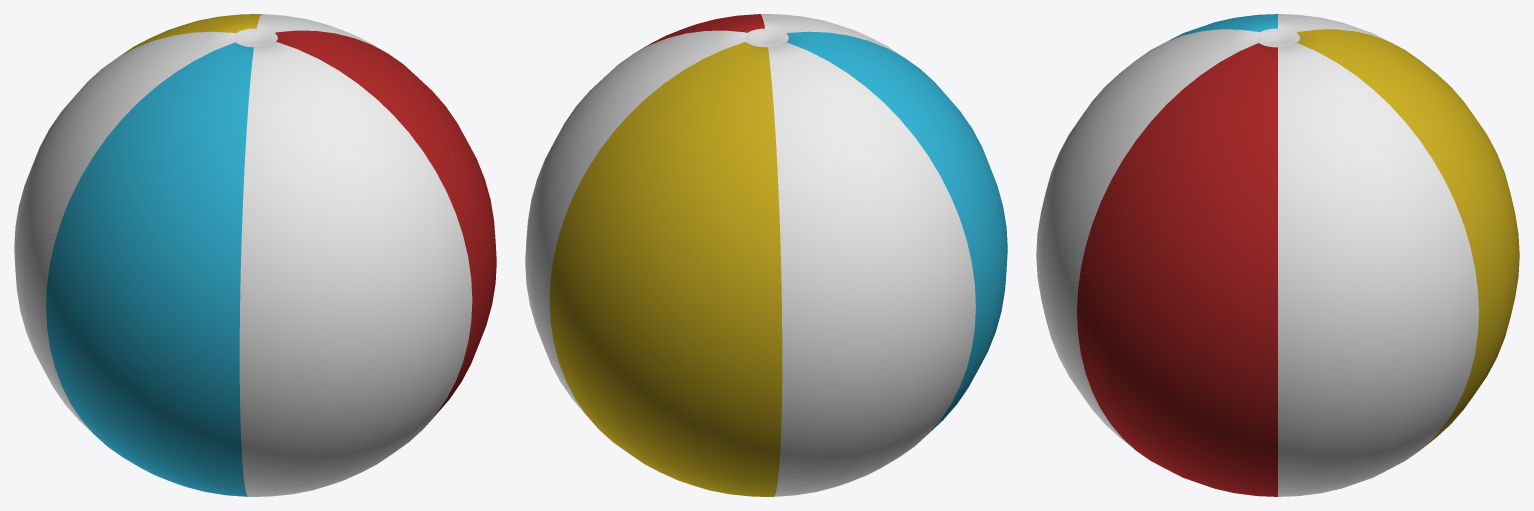
Rendered from newBall.glb.
The picture shows the model from 3 angles, left to right: view 1: azimuth 30°, elevation 25°; view 2: azimuth 150°, elevation 25°; view 3: azimuth 270°, elevation 25°; orthographic projection.
Parts seen in each view (by area): view 1: Sphere; view 2: Sphere; view 3: Sphere.
Part boxes in pixels (x1=…): Sphere: x1=14, y1=14, x2=496, y2=496; Sphere: x1=525, y1=14, x2=1007, y2=496; Sphere: x1=1036, y1=14, x2=1519, y2=496.
Bounding box in the file's own units: 0.6789 × 0.6756 × 0.6789.
